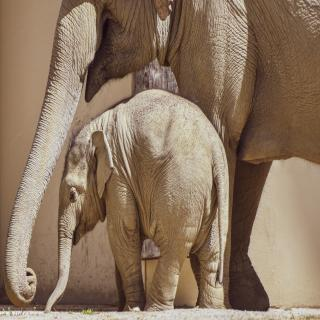Elephant: (44, 87, 231, 314)
